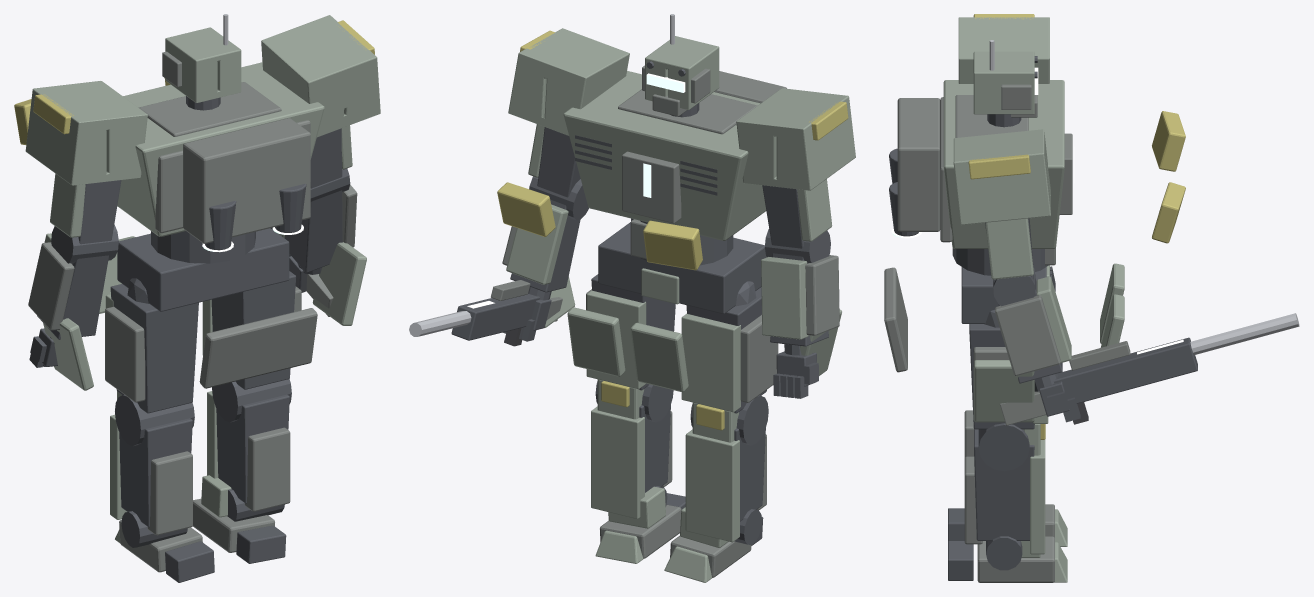
File: mech_g1.glb
3 renders of one model, left to right at view 1: azimuth 30°, elevation 25°; view 2: azimuth 150°, elevation 25°; view 3: azimuth 270°, elevation 25°, orthographic. The views are drawn at different scales.
Parts seen in each view (by area): view 1: backpack, pauldron, pauldron.001, pelvis, chest, skirt_rear, thigh, skull, shin, shin.001, collar, thigh.001 (+34 smaller); view 2: chest, pauldron, pauldron.001, pelvis, shin_plate, shin_plate.001, thigh_plate, forearm_plate, cockpit, skull, skirt_front.001, skirt_front (+40 smaller); view 3: pauldron.001, chest, backpack, rifle_body, shin.001, pauldron, forearm_side.001, skull, skirt_side.001, upper_arm_plate.001, foot.001, knee.001 (+23 smaller).
Boxes of the visible parts, left/top/right/bottom form: backpack: left=183, top=118, right=310, bottom=243; pauldron: left=25, top=81, right=147, bottom=185; pauldron.001: left=261, top=15, right=380, bottom=137; pelvis: left=117, top=228, right=289, bottom=311; chest: left=117, top=62, right=324, bottom=236; skirt_rear: left=199, top=308, right=317, bottom=388; thigh: left=110, top=284, right=198, bottom=413; skull: left=165, top=27, right=241, bottom=102; shin: left=119, top=418, right=192, bottom=527; shin.001: left=216, top=394, right=289, bottom=503; collar: left=138, top=82, right=281, bottom=136; thigh.001: left=211, top=271, right=295, bottom=389; chest: left=563, top=71, right=766, bottom=240; pauldron: left=736, top=88, right=855, bottom=190; pauldron.001: left=508, top=28, right=629, bottom=135; pelvis: left=598, top=222, right=766, bottom=313; shin_plate: left=685, top=429, right=739, bottom=542; shin_plate.001: left=591, top=406, right=644, bottom=518; thigh_plate: left=681, top=313, right=740, bottom=412; forearm_plate: left=761, top=257, right=808, bottom=339; cockpit: left=622, top=151, right=681, bottom=223; skull: left=645, top=36, right=719, bottom=109; skirt_front.001: left=567, top=307, right=625, bottom=376; skirt_front: left=630, top=322, right=688, bottom=392; pauldron.001: left=953, top=129, right=1050, bottom=224; chest: left=943, top=80, right=1064, bottom=248; backpack: left=897, top=98, right=940, bottom=231; rifle_body: left=1054, top=337, right=1197, bottom=403; shin.001: left=974, top=429, right=1034, bottom=540; pauldron: left=958, top=17, right=1049, bottom=83; forearm_side.001: left=995, top=295, right=1060, bottom=376; skull: left=973, top=51, right=1034, bottom=114; skirt_side.001: left=973, top=360, right=1034, bottom=422; upper_arm_plate.001: left=985, top=218, right=1033, bottom=279; foot.001: left=977, top=536, right=1054, bottom=582; knee.001: left=978, top=423, right=1029, bottom=471.
Bounding box in the file's own units: 9.32 × 15.18 × 10.93.
